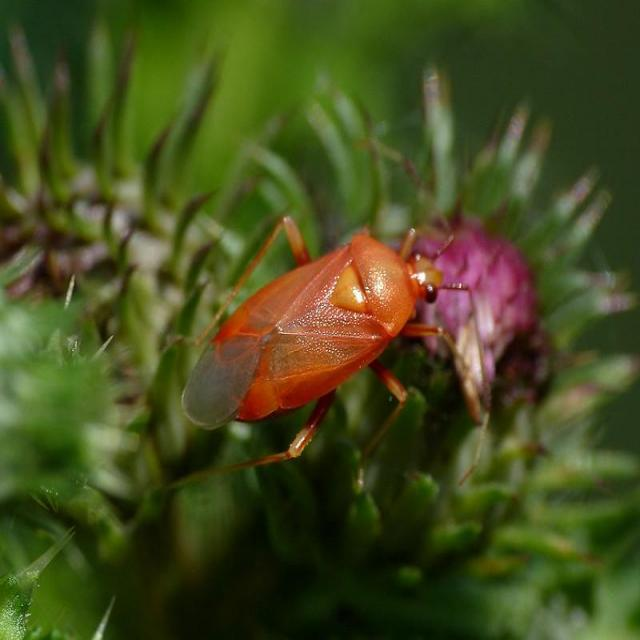Miridae-Adult-: (166, 187, 491, 475)
